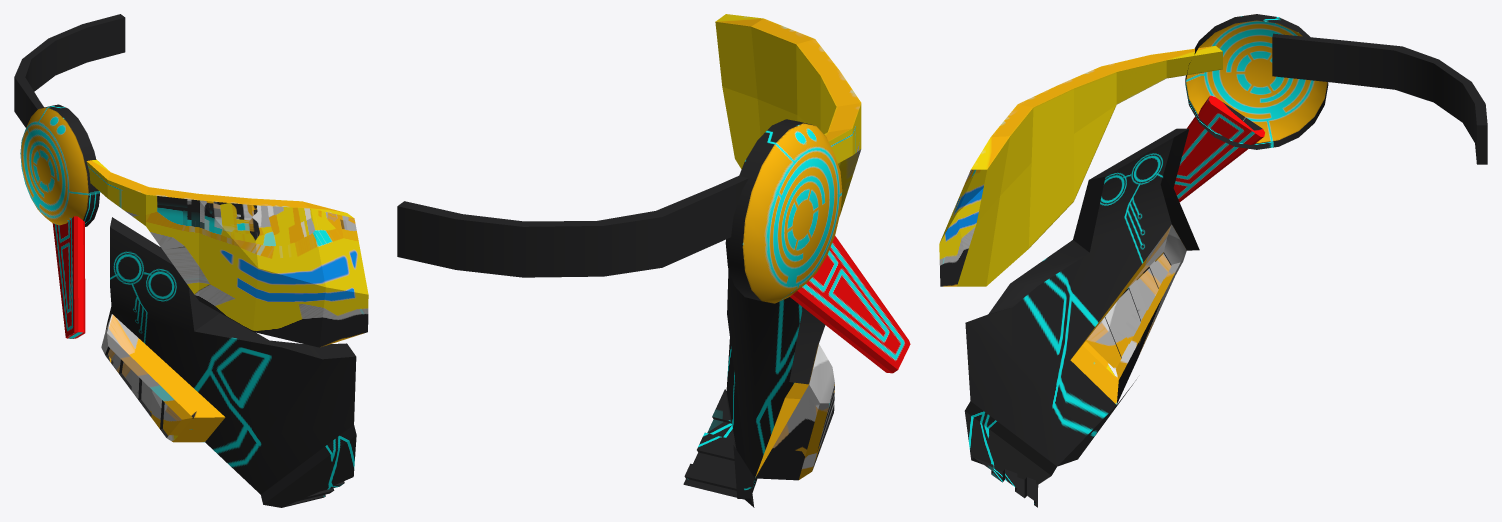
File: Headg.fbx
The picture shows the model from 3 angles, left to right: view 1: azimuth 30°, elevation 25°; view 2: azimuth 150°, elevation 25°; view 3: azimuth 270°, elevation 25°; orthographic projection. The views are drawn at different scales.
Visible parts, largest first — view 1: polySurface11, polySurface10, polySurface8, polySurface7, polySurface9; view 2: polySurface11, polySurface7, polySurface8, polySurface10, polySurface9; view 3: polySurface11, polySurface10, polySurface8, polySurface7, polySurface9.
Part boxes in pixels (x1,y1,x2,y2): polySurface11: [101, 217, 356, 507]; polySurface10: [86, 159, 368, 347]; polySurface8: [20, 104, 100, 226]; polySurface7: [14, 14, 125, 127]; polySurface9: [52, 216, 85, 338]; polySurface11: [683, 269, 834, 507]; polySurface7: [397, 176, 748, 277]; polySurface8: [725, 119, 842, 303]; polySurface10: [715, 14, 861, 215]; polySurface9: [790, 236, 910, 373]; polySurface11: [964, 128, 1199, 507]; polySurface10: [939, 46, 1222, 286]; polySurface8: [1185, 14, 1328, 149]; polySurface7: [1272, 33, 1487, 164]; polySurface9: [1173, 95, 1264, 201].
Bounding box in the file's own units: 1.26 × 2.11 × 2.62.
1 material, 1 textured.
